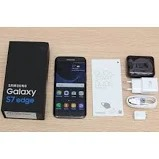samsung: (52, 54, 88, 121)
